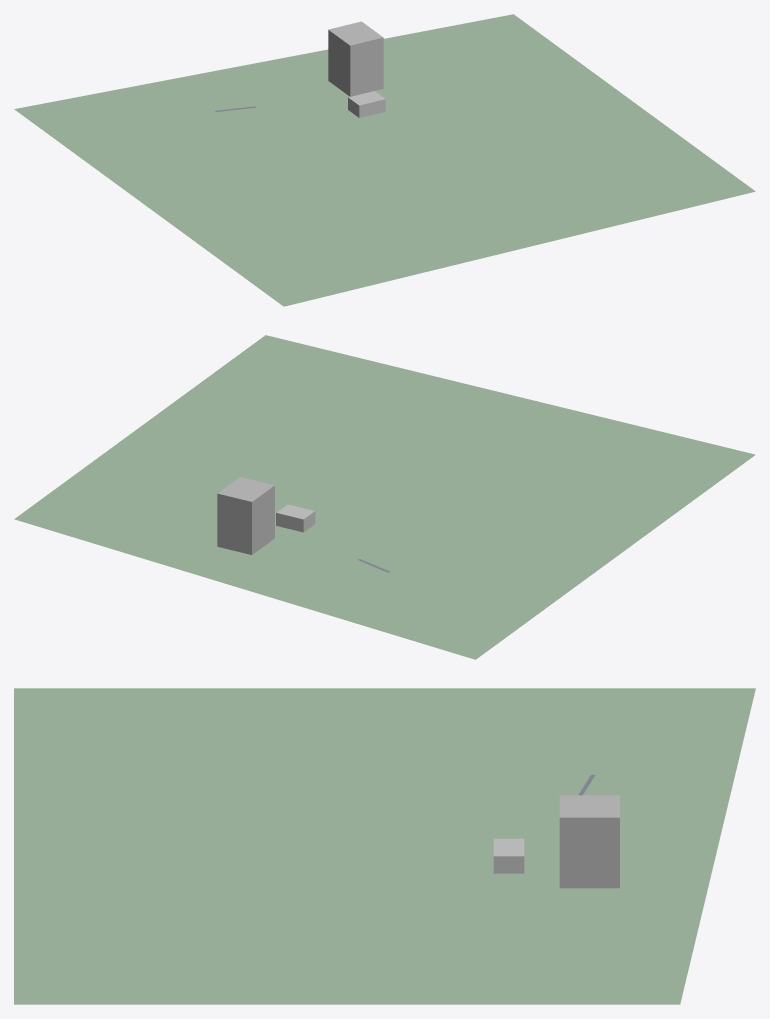
The model's file is 125_128_mid.glb.
3 renders of one model, top to bottom at view 1: azimuth 30°, elevation 25°; view 2: azimuth 150°, elevation 25°; view 3: azimuth 270°, elevation 25°, orthographic. The views are drawn at different scales.
Size of the model in its own units: 500 by 52.1 by 495.
